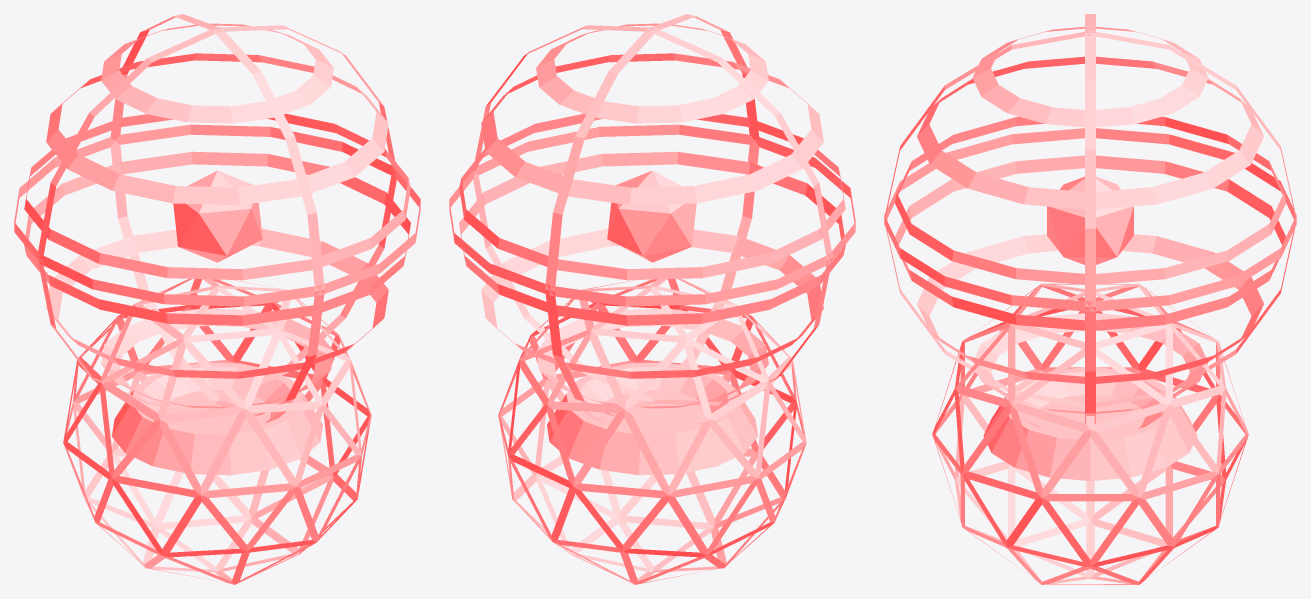
File: sphere_puzzle.fbx
3 views of the same model, side by side, from view 1: azimuth 30°, elevation 25°; view 2: azimuth 150°, elevation 25°; view 3: azimuth 270°, elevation 25° (orthographic).
Visible parts, largest first — view 1: Circle.003, Circle.001, Circle.004, Circle.002; view 2: Circle.003, Circle.001, Circle.004, Circle.002; view 3: Circle.003, Circle.001, Circle.004, Circle.002.
Boxes of the visible parts, x1,y1,x2,y2 form: Circle.003: (24, 23, 410, 408); Circle.001: (63, 278, 371, 584); Circle.004: (14, 14, 420, 416); Circle.002: (112, 362, 322, 475); Circle.003: (459, 23, 845, 408); Circle.001: (498, 278, 806, 584); Circle.004: (449, 14, 855, 416); Circle.002: (547, 362, 757, 475); Circle.003: (894, 27, 1286, 413); Circle.001: (932, 283, 1248, 584); Circle.004: (884, 14, 1296, 423); Circle.002: (983, 367, 1197, 480).
Size of the model in its own units: 77.62 by 113 by 77.62.
